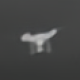plane: (19, 26, 62, 57)
